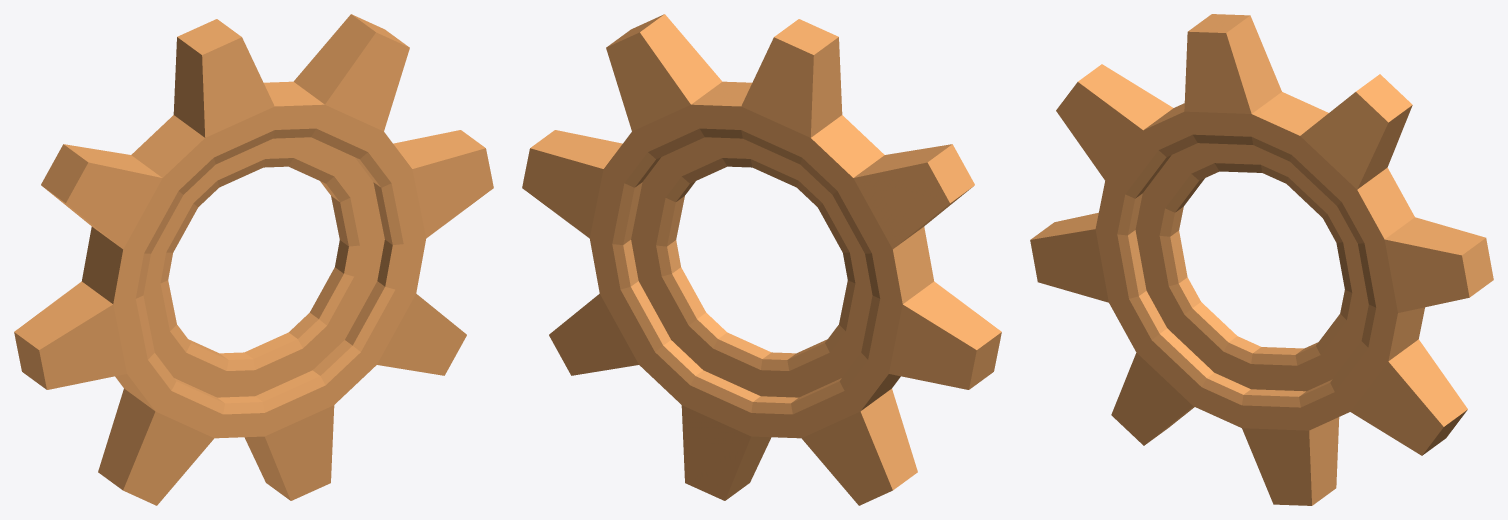
File: Cog_1.5m_T8.fbx
The picture shows the model from 3 angles, left to right: view 1: azimuth 30°, elevation 25°; view 2: azimuth 150°, elevation 25°; view 3: azimuth 330°, elevation 25°; orthographic projection. The views are drawn at different scales.
Parts seen in each view (by area): view 1: Cog_1.5m_T8; view 2: Cog_1.5m_T8; view 3: Cog_1.5m_T8.
Part boxes in pixels (x1=…): Cog_1.5m_T8: x1=14, y1=14, x2=493, y2=505; Cog_1.5m_T8: x1=522, y1=14, x2=1001, y2=505; Cog_1.5m_T8: x1=1030, y1=14, x2=1493, y2=505.
Bounding box in the file's own units: 433 × 433 × 51.95.
